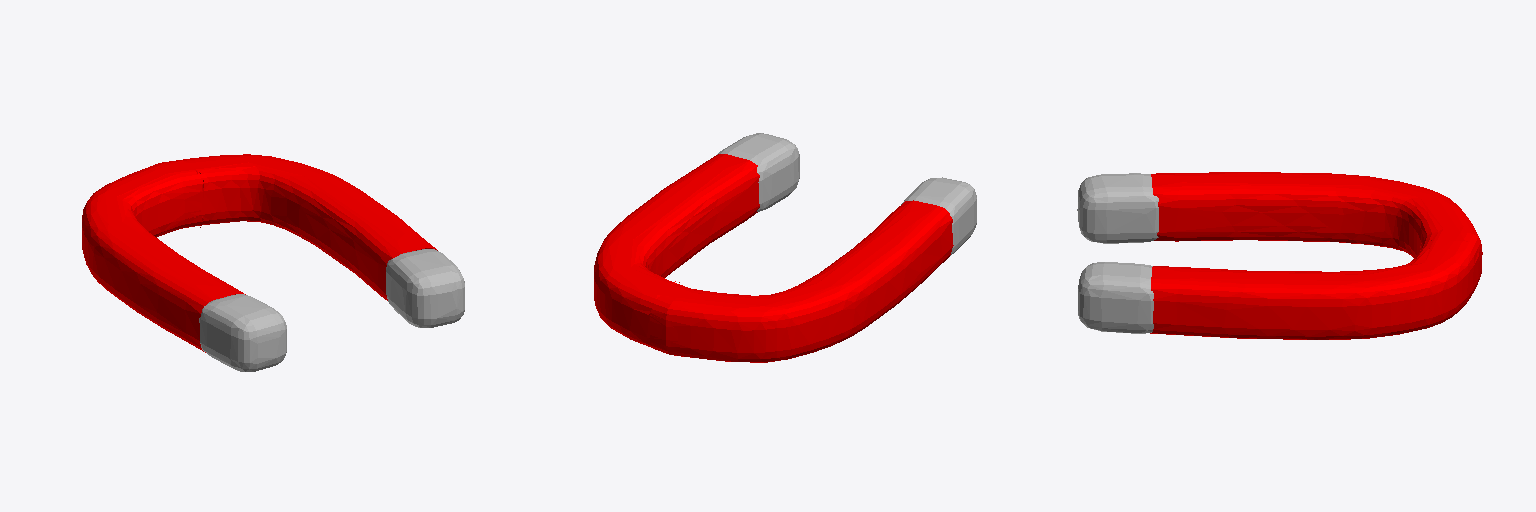
Rendered from magnet.obj.
The picture shows the model from 3 angles: view 1: azimuth 30°, elevation 25°; view 2: azimuth 150°, elevation 25°; view 3: azimuth 270°, elevation 25°; orthographic projection.
Parts seen in each view (by area): view 1: Empty_Mesh_Mesh; view 2: Empty_Mesh_Mesh; view 3: Empty_Mesh_Mesh.
Part boxes in pixels (x1,y1,x2,y2): Empty_Mesh_Mesh: (82, 154, 464, 371); Empty_Mesh_Mesh: (594, 133, 976, 362); Empty_Mesh_Mesh: (1077, 172, 1482, 339).
Size of the model in its own units: 1.29 by 0.2935 by 1.77.